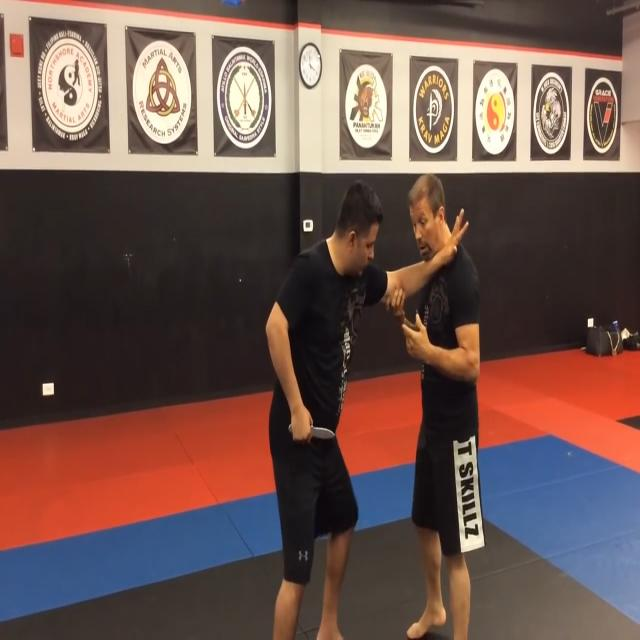knife: (288, 424, 338, 446)
